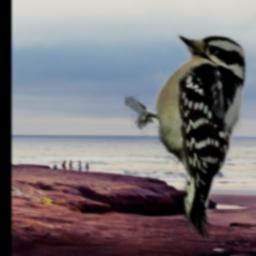Woodpecker: (126, 31, 249, 240)
